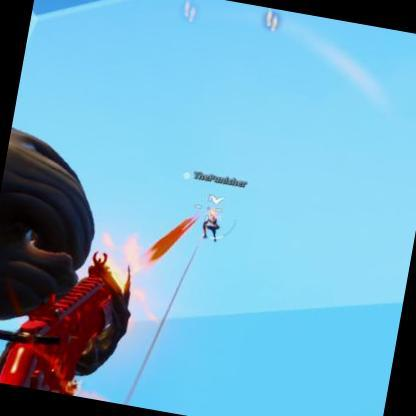person: (199, 206, 224, 244)
